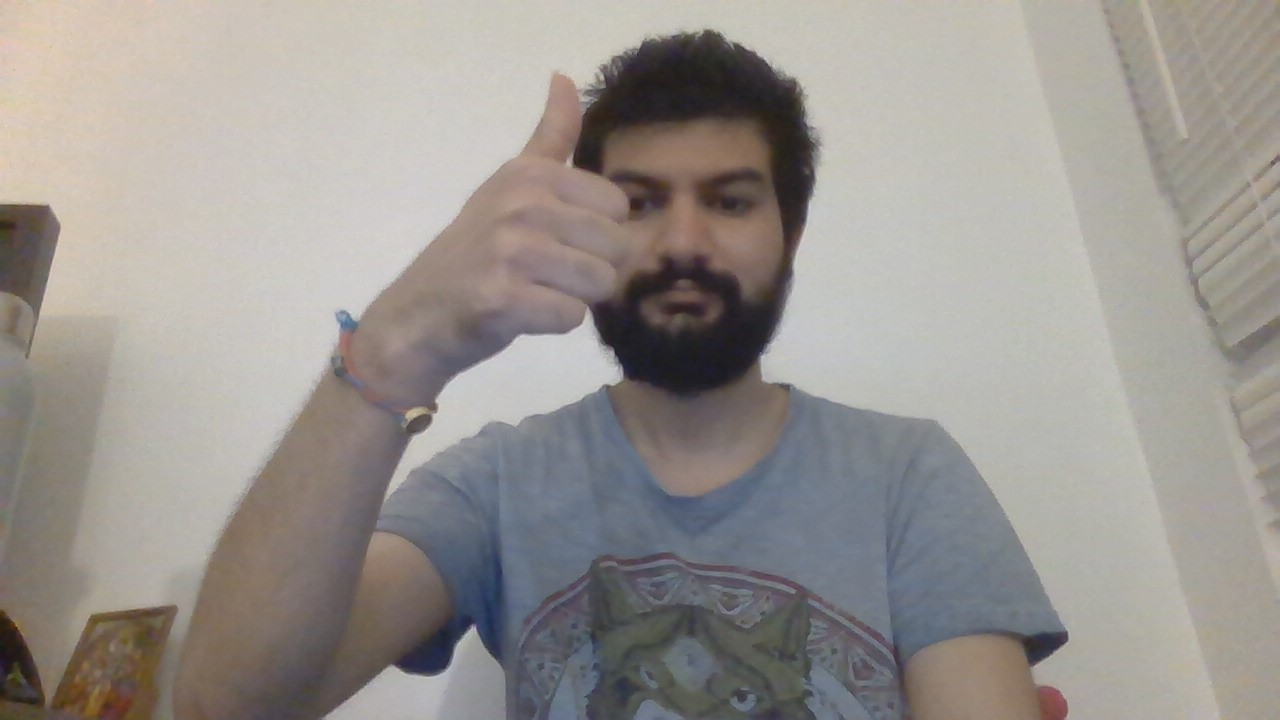up: (459, 66, 632, 340)
